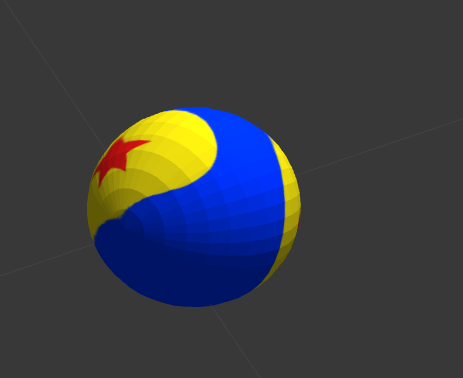toy story ball: (86, 106, 301, 307)
